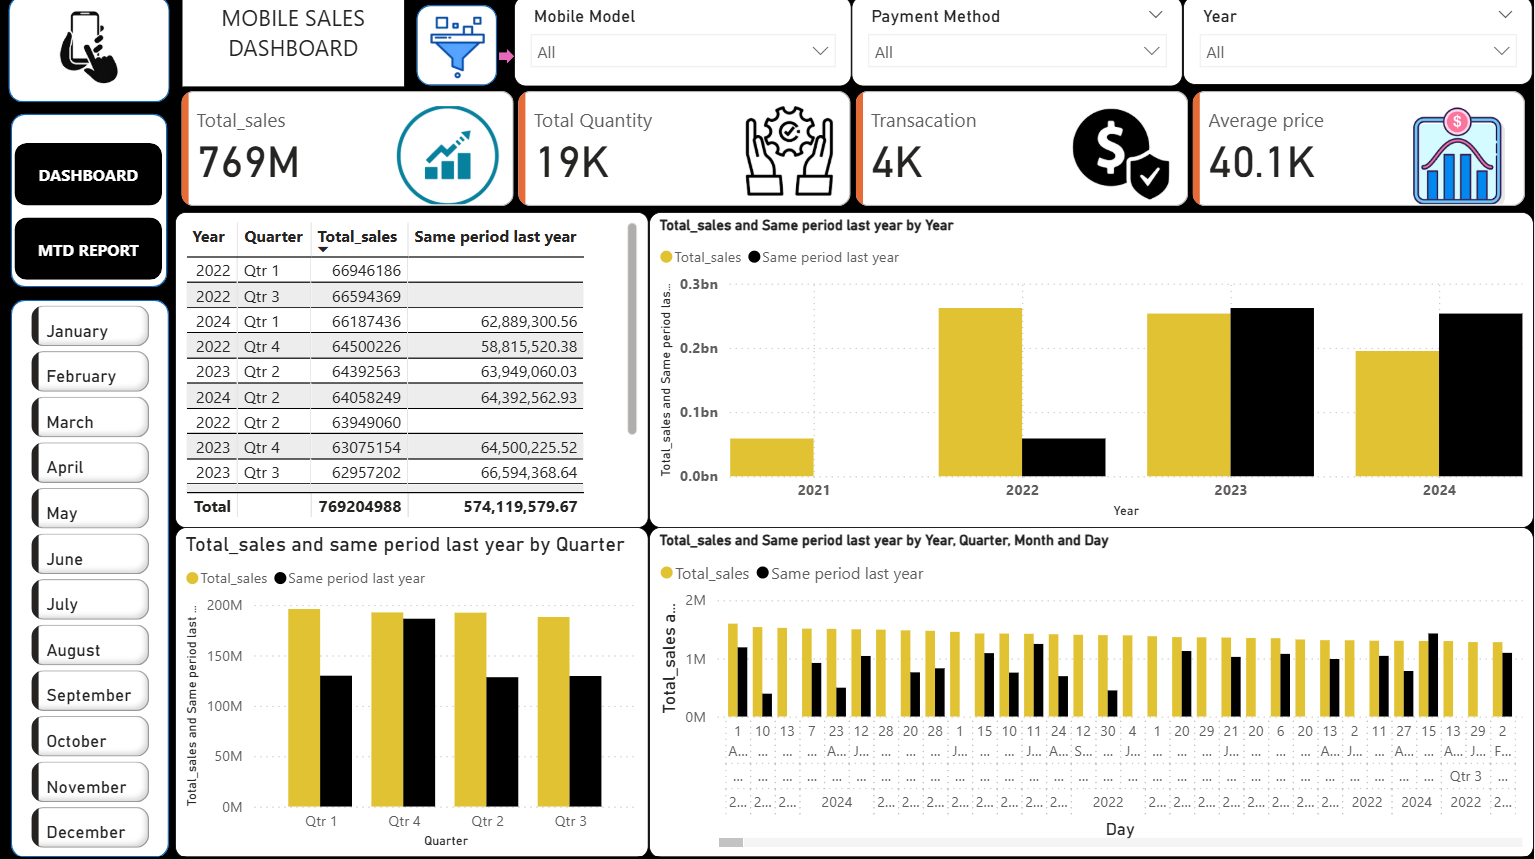

Layout of this report page (visuals, bound fields, positions):
{"tool":"powerbi","page":{"name":"SAME PERIOD LAST YEAR","canvas":[1280,720],"ordinal":2},"visuals":[{"type":"shape","box":[10.2,98,132.4,146.4],"z":0},{"type":"shape","box":[8.6,0,134.3,88.6],"z":1000},{"type":"image","box":[8.6,0,134.3,85.7],"z":2000},{"type":"cardVisual","fields":{"Data":["Mobile_sales_data.Total_sales","Mobile_sales_data.Total Quantity","Mobile_sales_data.Transacation","Mobile_sales_data.Average price"]},"box":[147.7,73.8,1131.9,107],"z":3000},{"type":"slicer","fields":{"Values":["Mobile_sales_data.Payment Method"]},"box":[711.7,0,276.3,75.1],"z":4000},{"type":"slicer","fields":{"Values":["Mobile_sales_data.Mobile Model"]},"box":[430.3,0,281.4,75.1],"z":5000},{"type":"slicer","fields":{"Values":["Date.Date.Variation.Date Hierarchy.Year"]},"box":[988,0,291.6,73.8],"z":6000},{"type":"shape","box":[348.6,7.1,67.1,67.1],"z":7000},{"type":"image","box":[350,11.4,65.7,62.9],"z":8000},{"type":"shape","box":[417.1,44.3,12.9,12.9],"z":9000},{"type":"textbox","box":[154.1,0,184.6,75.1],"z":10000},{"type":"shape","box":[10.2,252.1,133.7,467.3],"z":11000},{"type":"advancedSlicerVisual","fields":{"Values":["Date.Date.Variation.Date Hierarchy.Month"]},"box":[22.9,252.1,108.2,467.3],"z":12000},{"type":"tableEx","fields":{"Values":["Date.Date.Variation.Date Hierarchy.Year","Date.Date.Variation.Date Hierarchy.Quarter","Mobile_sales_data.Total_sales","Mobile_sales_data.SAME PERIOD LAST YEAR"]},"box":[147.7,179.5,394.7,263.6],"z":13000},{"type":"clusteredColumnChart","fields":{"Category":["Date.Date.Variation.Date Hierarchy.Year","Date.Date.Variation.Date Hierarchy.Quarter"],"Y":["Mobile_sales_data.Total_sales","Mobile_sales_data.SAME PERIOD LAST YEAR"]},"box":[542.4,179.5,737.2,263.6],"z":14000},{"type":"clusteredColumnChart","title":"Total_sales and same period last year by Quarter","fields":{"Category":["Date.Date.Variation.Date Hierarchy.Year","Date.Date.Variation.Date Hierarchy.Quarter"],"Y":["Mobile_sales_data.Total_sales","Mobile_sales_data.SAME PERIOD LAST YEAR"]},"box":[147.7,443.1,394.7,276.3],"z":15000},{"type":"clusteredColumnChart","fields":{"Y":["Mobile_sales_data.Total_sales","Mobile_sales_data.SAME PERIOD LAST YEAR"],"Category":["Date.Date.Variation.Date Hierarchy.Year","Date.Date.Variation.Date Hierarchy.Quarter","Date.Date.Variation.Date Hierarchy.Month","Date.Date.Variation.Date Hierarchy.Day"]},"box":[542.4,443.1,737.2,276.3],"z":16000},{"type":"pageNavigator","box":[14,122.2,123.5,115.9],"z":17000}]}

Visuals, with their boxes in screenshot pixels (x1, y1, x2, y2), scaled from the page's 1280x720 canvas onto the 1535x859 screenshot:
shape: bbox(12, 117, 171, 292)
shape: bbox(10, 0, 171, 106)
image: bbox(10, 0, 171, 102)
cardVisual - Mobile_sales_data.Total_sales x Mobile_sales_data.Total Quantity: bbox(177, 88, 1534, 216)
slicer - Mobile_sales_data.Payment Method: bbox(853, 0, 1185, 90)
slicer - Mobile_sales_data.Mobile Model: bbox(516, 0, 853, 90)
slicer - Date.Date.Variation.Date Hierarchy.Year: bbox(1185, 0, 1534, 88)
shape: bbox(418, 8, 499, 89)
image: bbox(420, 14, 499, 89)
shape: bbox(500, 53, 516, 68)
textbox: bbox(185, 0, 406, 90)
shape: bbox(12, 301, 173, 858)
advancedSlicerVisual - Date.Date.Variation.Date Hierarchy.Month: bbox(27, 301, 157, 858)
tableEx - Date.Date.Variation.Date Hierarchy.Year x Date.Date.Variation.Date Hierarchy.Quarter: bbox(177, 214, 650, 529)
clusteredColumnChart - Date.Date.Variation.Date Hierarchy.Year x Date.Date.Variation.Date Hierarchy.Quarter: bbox(650, 214, 1534, 529)
"Total_sales and same period last year by Quarter" clusteredColumnChart: bbox(177, 529, 650, 858)
clusteredColumnChart - Mobile_sales_data.Total_sales x Mobile_sales_data.SAME PERIOD LAST YEAR: bbox(650, 529, 1534, 858)
pageNavigator: bbox(17, 146, 165, 284)
